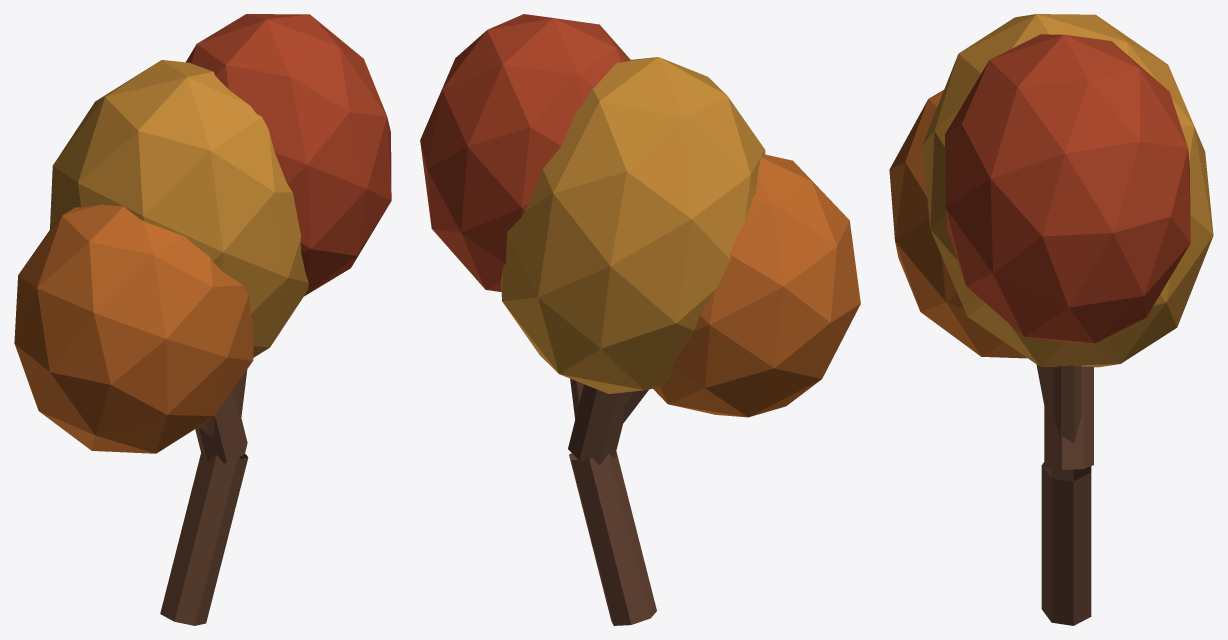
3 renders of one model, left to right at view 1: azimuth 30°, elevation 25°; view 2: azimuth 150°, elevation 25°; view 3: azimuth 270°, elevation 25°, orthographic. The views are drawn at different scales.
Visible parts, largest first — view 1: T08_赤枫双冠树; view 2: T08_赤枫双冠树; view 3: T08_赤枫双冠树.
Part boxes in pixels (x1,y1,x2,y2): T08_赤枫双冠树: [14, 14, 391, 625]; T08_赤枫双冠树: [420, 14, 860, 625]; T08_赤枫双冠树: [889, 14, 1213, 625].
Size of the model in its own units: 1.62 by 2.38 by 1.12.
